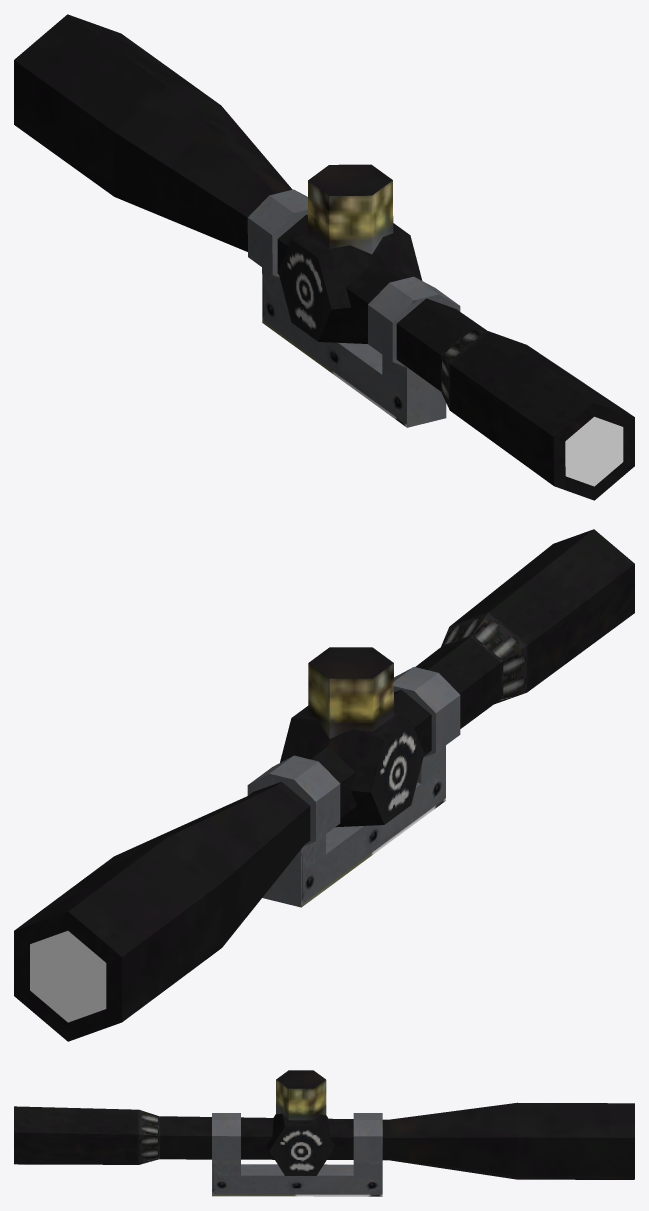
The model's file is scope.glb.
3 views of the same model, one above another, from view 1: azimuth 30°, elevation 25°; view 2: azimuth 150°, elevation 25°; view 3: azimuth 270°, elevation 25° (orthographic). The views are drawn at different scales.
Visible parts, largest first — view 1: SCOPE; view 2: SCOPE; view 3: SCOPE.
Boxes of the visible parts, <box> form: SCOPE: <box>14,14,634,500</box>; SCOPE: <box>14,529,634,1041</box>; SCOPE: <box>14,1070,634,1196</box>.
Bounding box in the file's own units: 0.0393 × 0.0656 × 0.3315.
2 materials, 1 textured.
